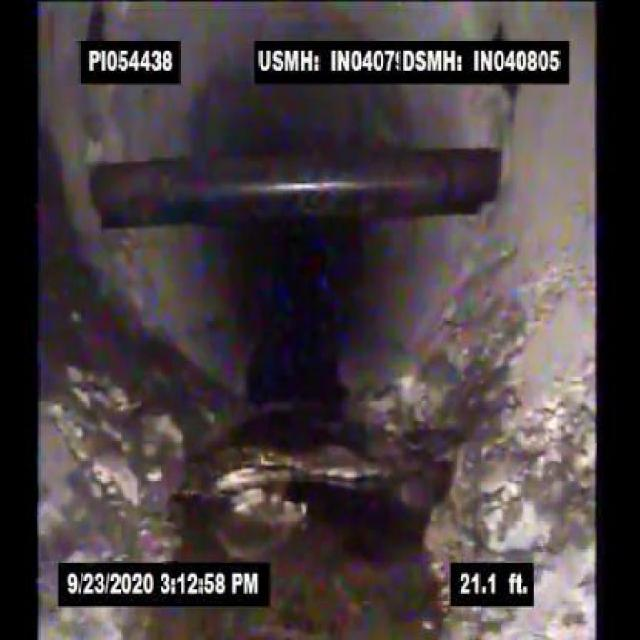Utility intrusion: (85, 141, 509, 237)
